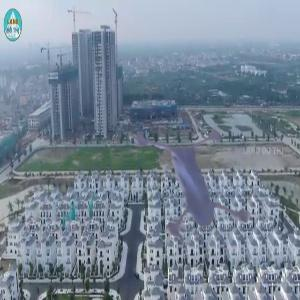drone: (94, 93, 277, 276)
